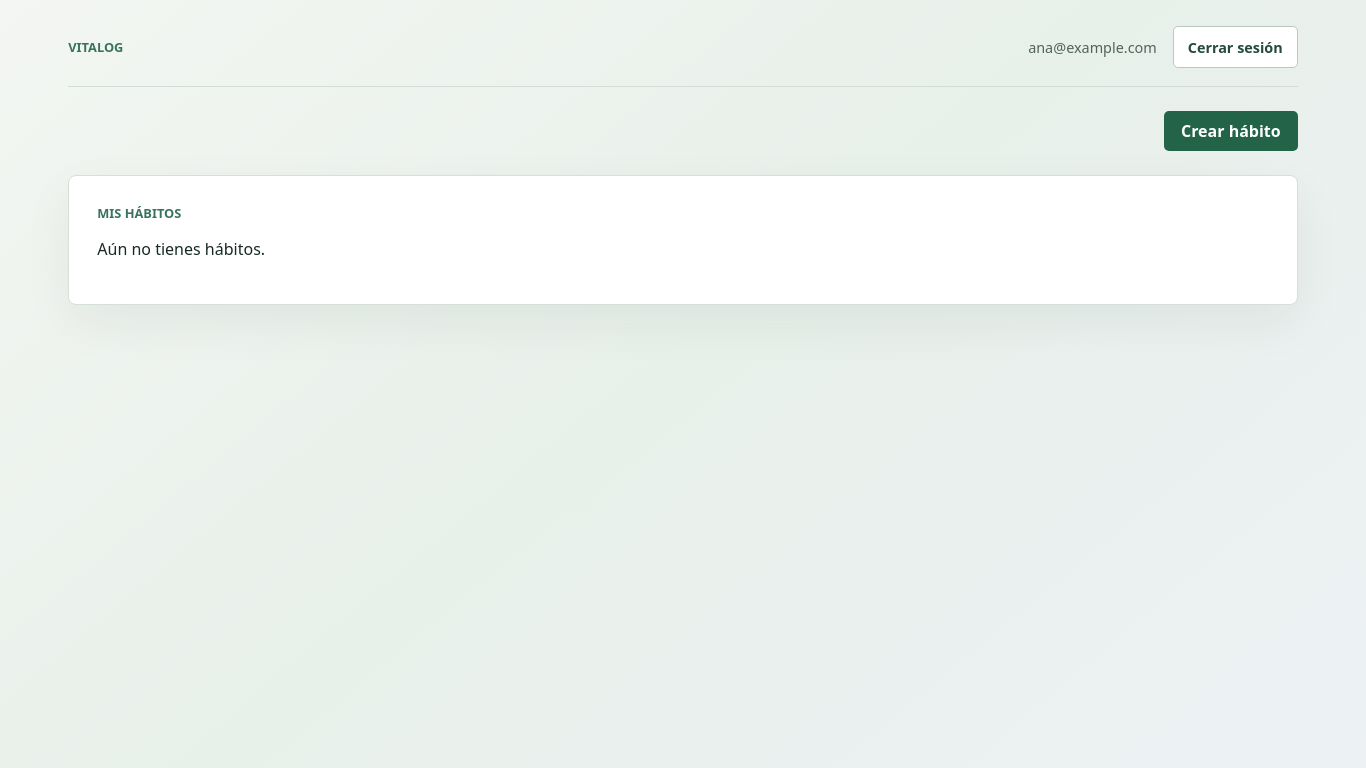
rechaza un hábito semanal sin días seleccionados
This screenshot has width=1366, height=768.
Click the button "Crear hábito" at [1231, 131], box [1164,111,1298,151]
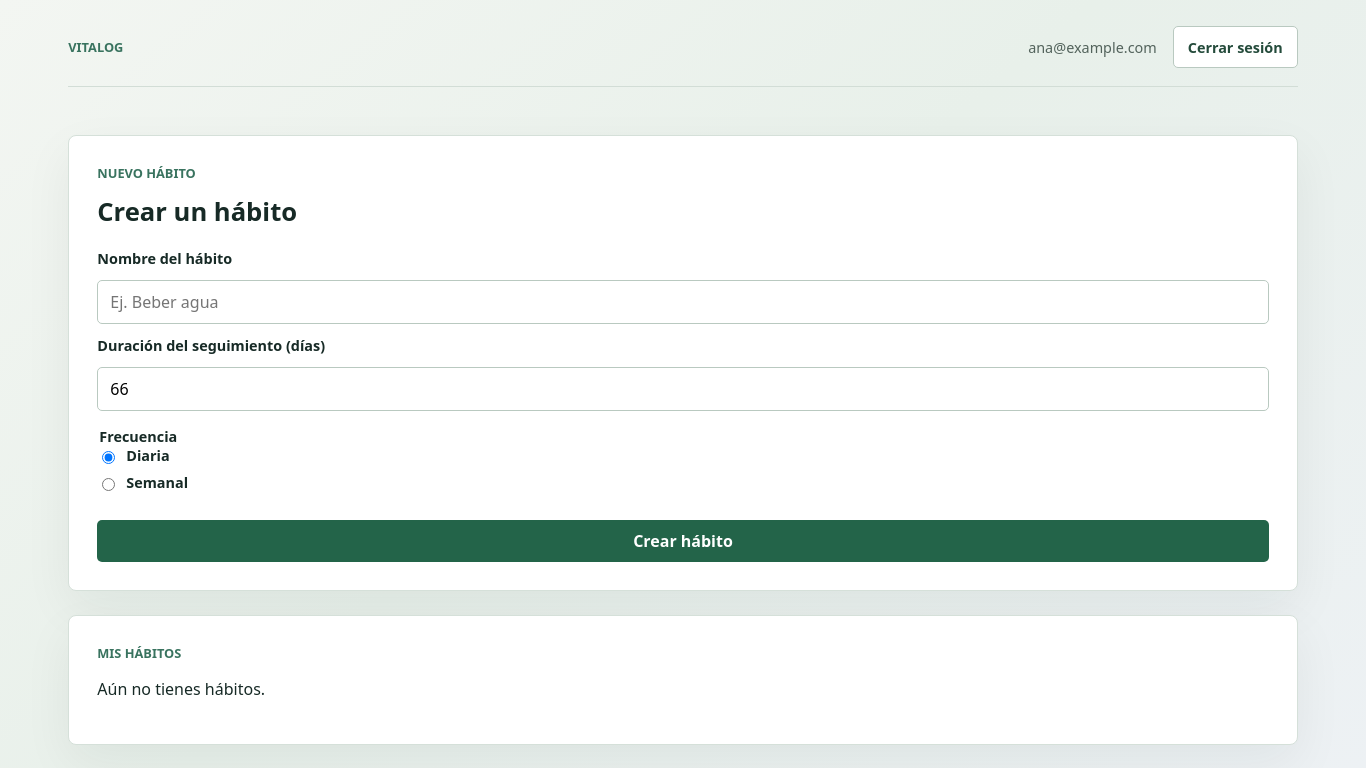
Type "Correr" into the field labelled "Nombre del hábito" at [683, 302], box [97,280,1269,324]
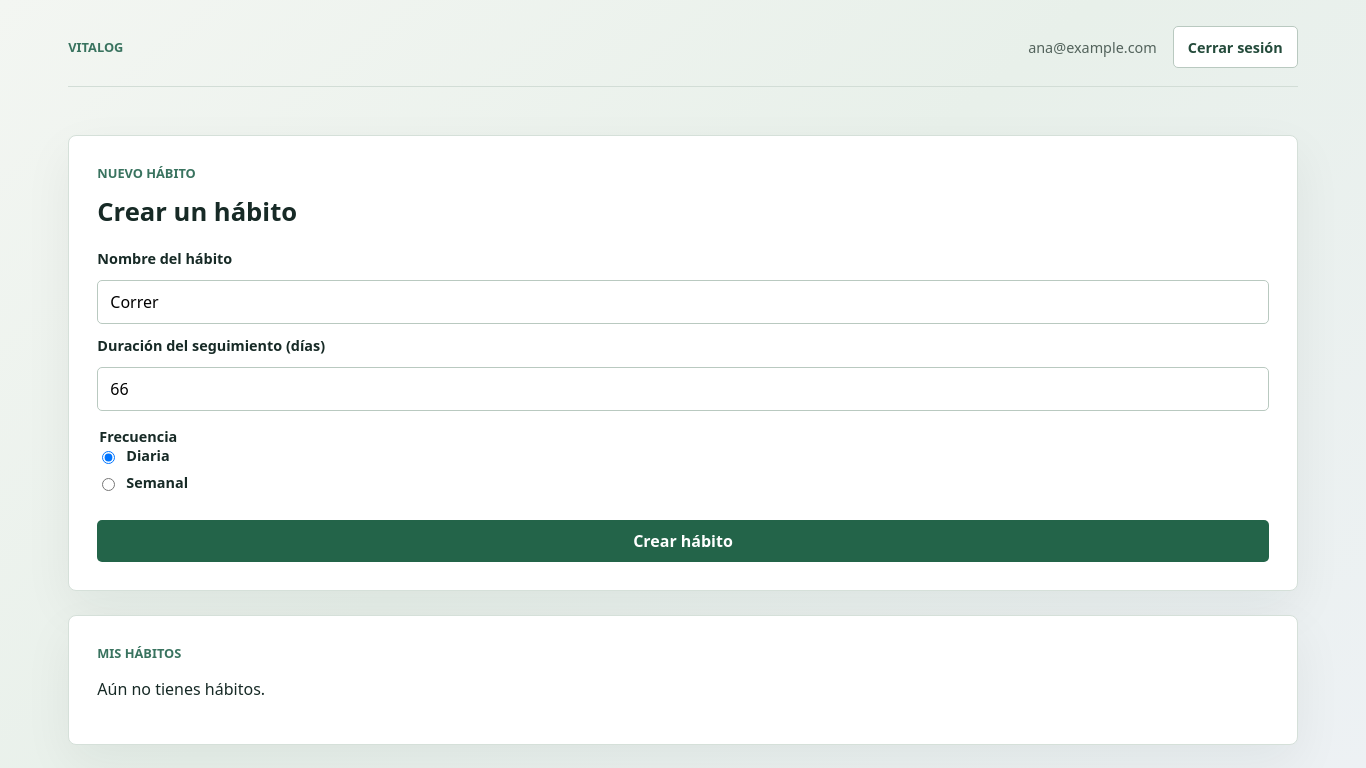
Click the radio button labelled "Semanal" at [109, 484], box [102,478,115,490]
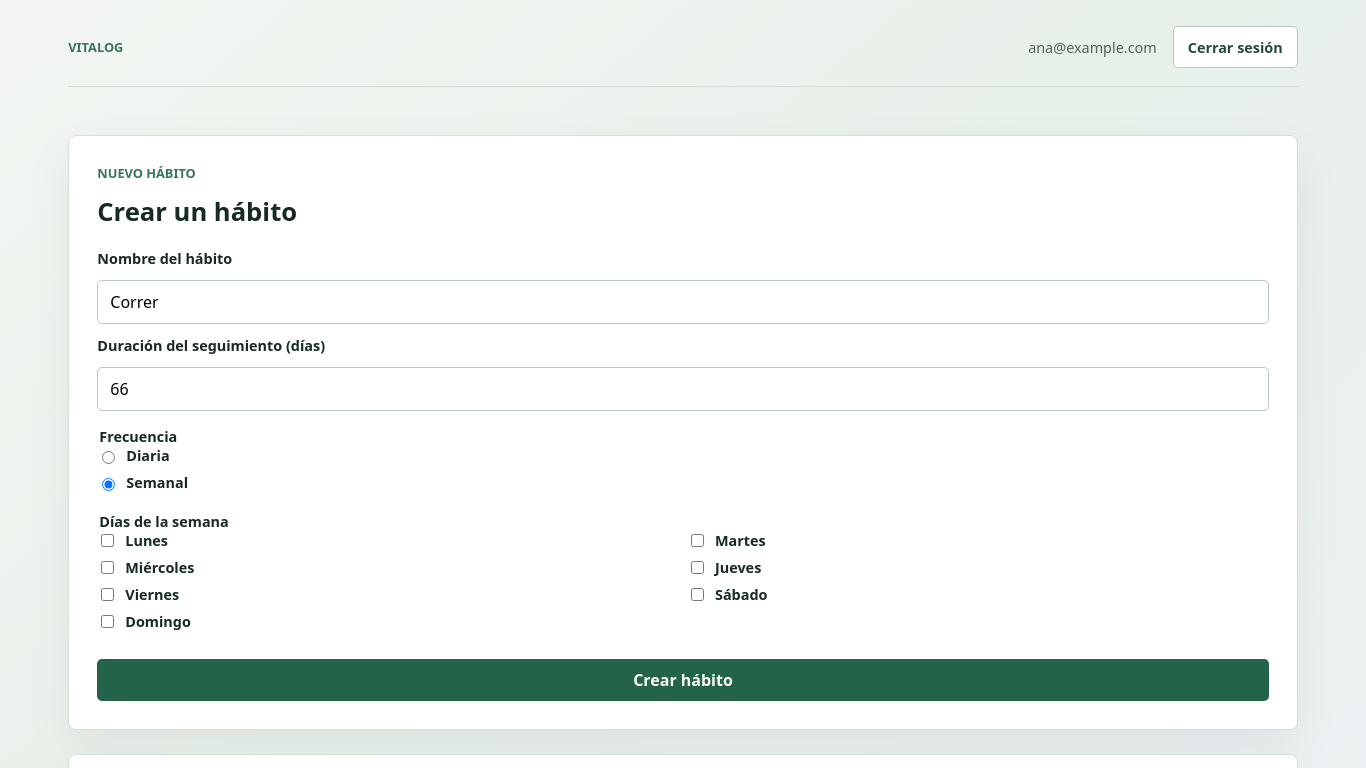
Click the button "Crear hábito" at [683, 680], box [97,659,1269,701]
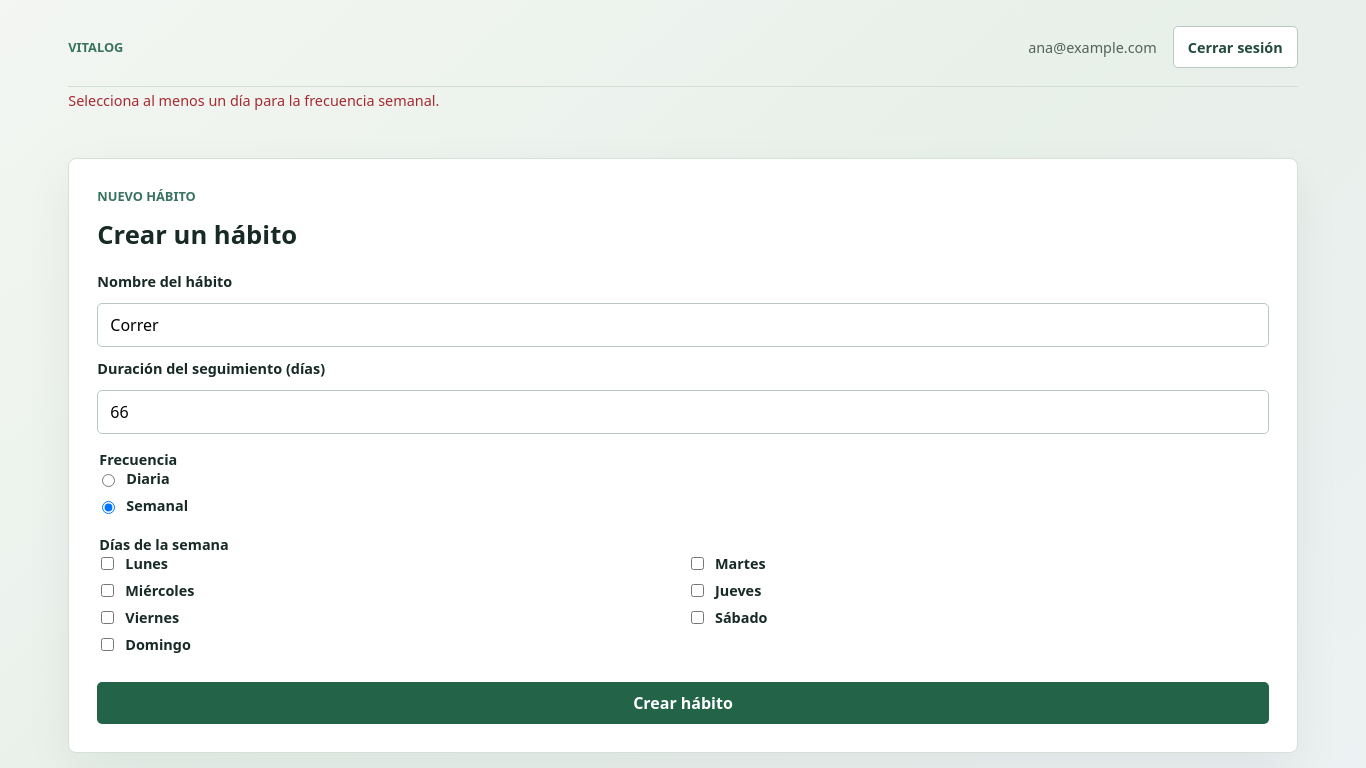
Now the message shows "Selecciona al menos un día", box [68,91,439,110]
